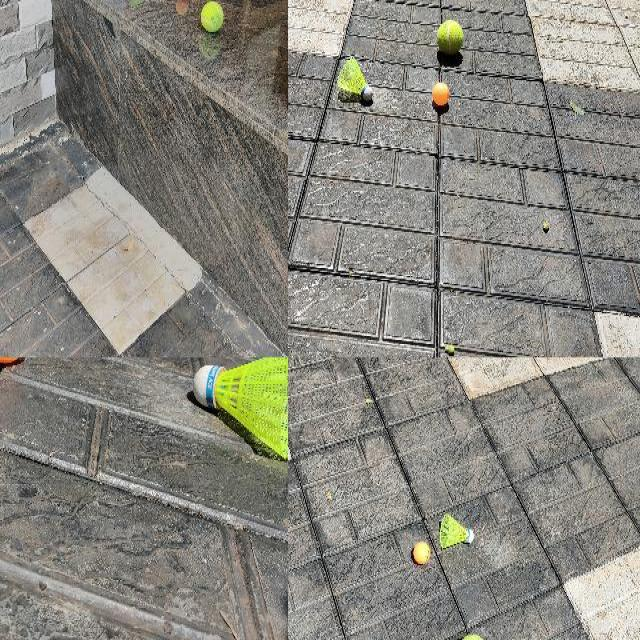ping-pong-ball: (432, 81, 448, 108), (414, 541, 428, 563)
